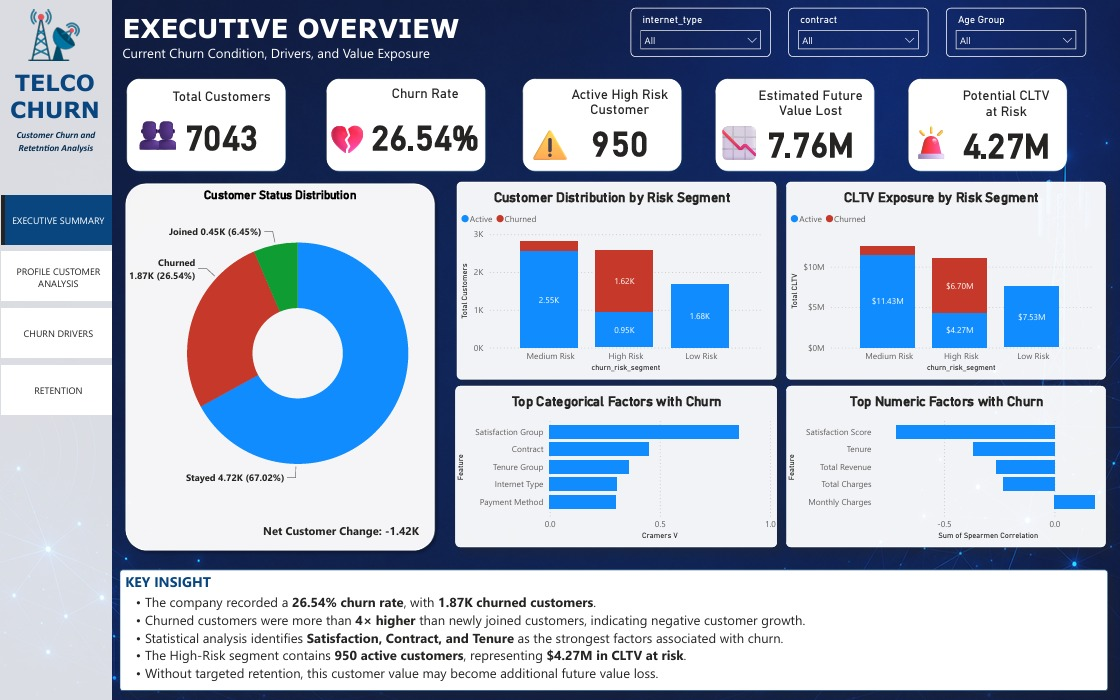

The dashboard page shown, as its layout file describes it:
{"tool":"powerbi","page":{"name":"EXECUTIVE SUMMARY","canvas":[1600,1000],"ordinal":0},"visuals":[{"type":"shape","box":[171.6,101.6,245,150],"z":0},{"type":"card","title":"Total Customers","fields":{"Values":["telco_churn_final_analysis.Total Customers"]},"box":[213.2,114.9,188.3,121.7],"z":1000},{"type":"shape","box":[0,0,160,1000],"z":2000},{"type":"shape","box":[456.6,101.6,245,150],"z":3000},{"type":"shape","box":[736.6,101.6,245,150],"z":4000},{"type":"card","title":"Churn Rate","fields":{"Values":["telco_churn_final_analysis.Churned Rate"]},"box":[506.6,110.6,182,132],"z":5000},{"type":"shape","box":[1011.6,101.6,245,150],"z":6000},{"type":"card","title":"Active High Risk Customer","fields":{"Values":["telco_churn_final_analysis.Total Customers"]},"box":[784.7,112.2,181.7,123.3],"z":7000},{"type":"shape","box":[1286.6,101.6,245,150],"z":8000},{"type":"card","title":"Potential CLTV at Risk","fields":{"Values":["telco_churn_final_analysis.CLTV at Risk"]},"box":[1347.7,114.5,158.3,126.3],"z":9000},{"type":"image","box":[27.1,12.9,100,72.9],"z":10000},{"type":"slicer","fields":{"Values":["telco_churn_final_analysis.Age Group"]},"box":[1350,10,200,70],"z":11000},{"type":"textbox","box":[170,10,1350,100],"z":12000},{"type":"textbox","box":[1.4,91.4,154.3,104.3],"z":13000},{"type":"columnChart","title":"Customer Distribution by Risk Segment","fields":{"Category":["telco_churn_final_analysis.churn_risk_segment"],"Y":["telco_churn_final_analysis.Total Customers"],"Series":["telco_churn_final_analysis.Churn Status"]},"box":[652.2,257.8,455.6,282.2],"z":14000},{"type":"columnChart","title":"CLTV Exposure by Risk Segment","fields":{"Y":["Sum(telco_churn_final_analysis.cltv)"],"Category":["telco_churn_final_analysis.churn_risk_segment"],"Series":["telco_churn_final_analysis.Churn Status"]},"box":[1122.2,257.8,455.6,282.2],"z":15000},{"type":"card","title":"Estimated Future Value Lost","fields":{"Values":["telco_churn_final_analysis.Lost CLTV"]},"box":[1053.7,112.6,188.5,126.3],"z":16000},{"type":"textbox","title":"KEY INSIGHT","box":[171.4,811.4,1410,172.9],"z":17000},{"type":"slicer","fields":{"Values":["telco_churn_final_analysis.internet_type"]},"box":[900,10,200,70],"z":18000},{"type":"textbox","box":[184.6,140.6,76,96],"z":19000},{"type":"textbox","box":[456.6,156.6,76,96],"z":20000},{"type":"textbox","box":[746.6,162.6,76,96],"z":21000},{"type":"textbox","box":[1016.6,162.6,76,96],"z":22000},{"type":"textbox","box":[1290.6,162.6,76,96],"z":23000},{"type":"slicer","fields":{"Values":["telco_churn_final_analysis.contract"]},"box":[1125,10,200,70],"z":24000},{"type":"textbox","box":[2.9,177.1,154.3,54.3],"z":25000},{"type":"barChart","title":"Top Categorical Factors with Churn","fields":{"Category":["Hipotesis.Variable"],"Y":["Sum(Hipotesis.Cramers V)"]},"box":[650.3,549.1,458.6,230],"z":26000},{"type":"barChart","title":"Top Numeric Factors with Churn","fields":{"Category":["Numerical.Feature"],"Y":["Sum(Numerical.Spearmen Correlation)"]},"box":[1122.2,548.9,455.6,230],"z":27000},{"type":"shape","title":"CURRENT CONDITOP","box":[170,251.4,460,541.4],"z":28000},{"type":"donutChart","title":"Churn Distribution","fields":{"Category":["telco_churn_final_analysis.customer_status"],"Y":["CountNonNull(telco_churn_final_analysis.customer_status)"]},"box":[160,188.6,530,627.1],"z":29000},{"type":"textbox","box":[257.1,261.4,285.7,54.3],"z":30000},{"type":"textbox","box":[344.3,738.6,285.7,54.3],"z":31000},{"type":"pageNavigator","box":[1.5,277.5,158.3,316.7],"z":32000}]}

Visuals, with their boxes in screenshot pixels (x1, y1, x2, y2), scaled from the page's 1600x1000 canvas onto the 1120x700 screenshot:
shape: Rect(120, 71, 292, 176)
"Total Customers" card: Rect(149, 80, 281, 166)
shape: Rect(0, 0, 112, 699)
shape: Rect(320, 71, 491, 176)
shape: Rect(516, 71, 687, 176)
"Churn Rate" card: Rect(355, 77, 482, 170)
shape: Rect(708, 71, 880, 176)
"Active High Risk Customer" card: Rect(549, 79, 676, 165)
shape: Rect(901, 71, 1072, 176)
"Potential CLTV at Risk" card: Rect(943, 80, 1054, 169)
image: Rect(19, 9, 89, 60)
slicer - telco_churn_final_analysis.Age Group: Rect(945, 7, 1085, 56)
textbox: Rect(119, 7, 1064, 77)
textbox: Rect(1, 64, 109, 137)
"Customer Distribution by Risk Segment" columnChart: Rect(457, 180, 775, 378)
"CLTV Exposure by Risk Segment" columnChart: Rect(786, 180, 1104, 378)
"Estimated Future Value Lost" card: Rect(738, 79, 870, 167)
"KEY INSIGHT" textbox: Rect(120, 568, 1107, 689)
slicer - telco_churn_final_analysis.internet_type: Rect(630, 7, 770, 56)
textbox: Rect(129, 98, 182, 166)
textbox: Rect(320, 110, 373, 177)
textbox: Rect(523, 114, 576, 181)
textbox: Rect(712, 114, 765, 181)
textbox: Rect(903, 114, 957, 181)
slicer - telco_churn_final_analysis.contract: Rect(788, 7, 927, 56)
textbox: Rect(2, 124, 110, 162)
"Top Categorical Factors with Churn" barChart: Rect(455, 384, 776, 545)
"Top Numeric Factors with Churn" barChart: Rect(786, 384, 1104, 545)
"CURRENT CONDITOP" shape: Rect(119, 176, 441, 555)
"Churn Distribution" donutChart: Rect(112, 132, 483, 571)
textbox: Rect(180, 183, 380, 221)
textbox: Rect(241, 517, 441, 555)
pageNavigator: Rect(1, 194, 112, 416)
